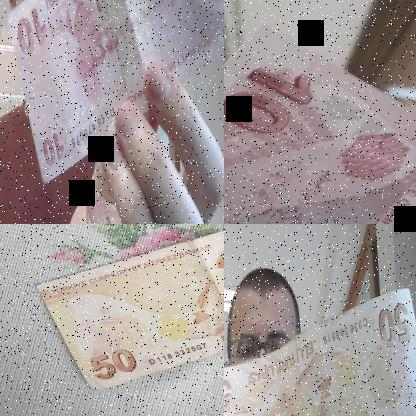5 TL: (9, 0, 223, 186)
